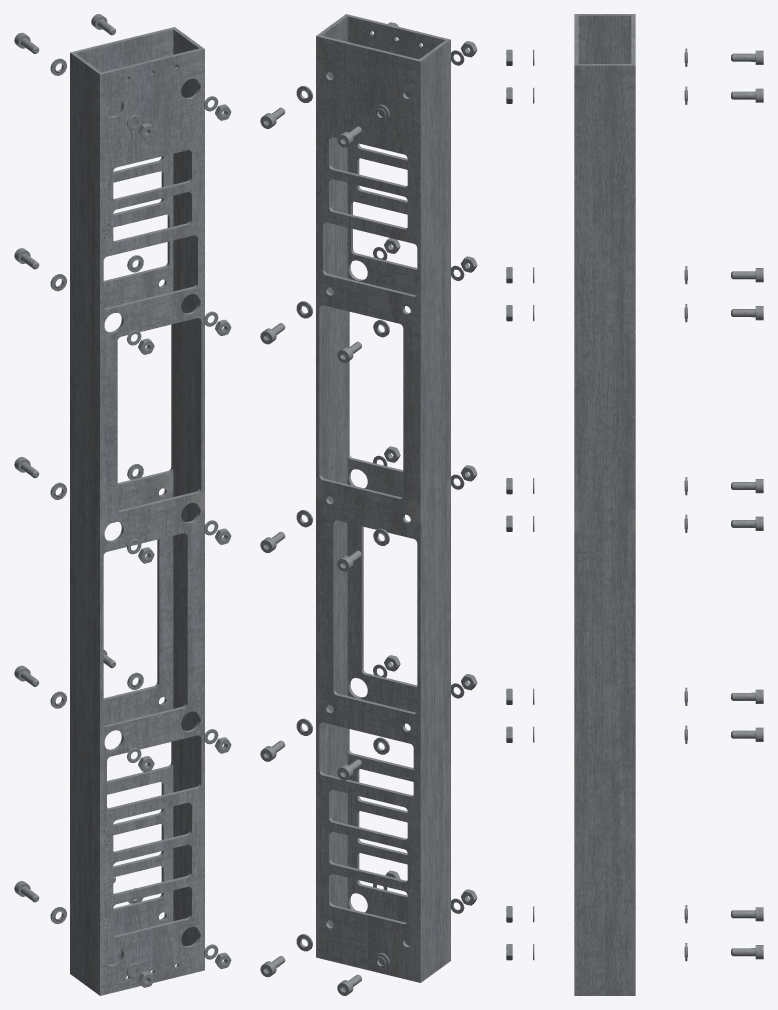
File: platine_step_1.obj
3 views of the same model, side by side, from view 1: azimuth 30°, elevation 25°; view 2: azimuth 150°, elevation 25°; view 3: azimuth 270°, elevation 25° (orthographic).
Parts seen in each view (by area): view 1: OAC_INCOLORE; view 2: OAC_INCOLORE; view 3: OAC_INCOLORE.
Boxes of the visible parts, x1=… form: OAC_INCOLORE: x1=70, y1=27, x2=204, y2=995; OAC_INCOLORE: x1=316, y1=14, x2=450, y2=982; OAC_INCOLORE: x1=574, y1=14, x2=635, y2=995.
Size of the model in its own units: 60 by 504 by 126.
1 material, 1 textured.
